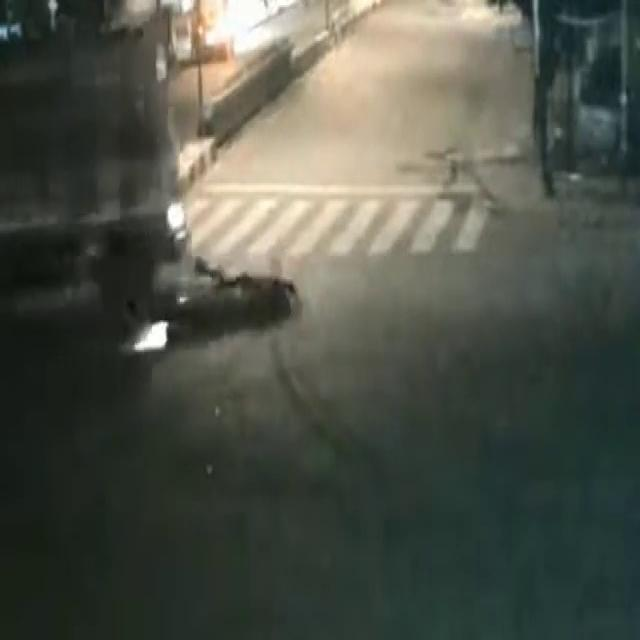accident: (0, 15, 310, 433)
